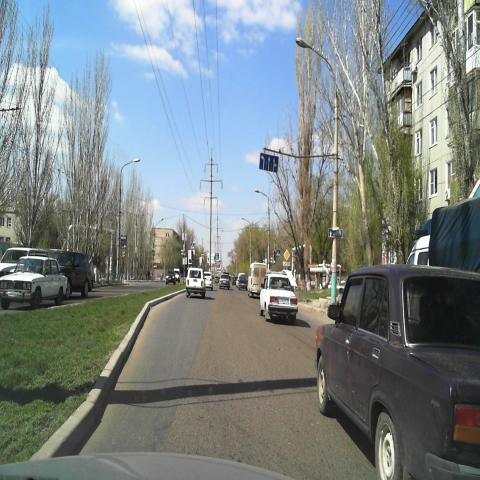6_15_1: (328, 227, 344, 238)
